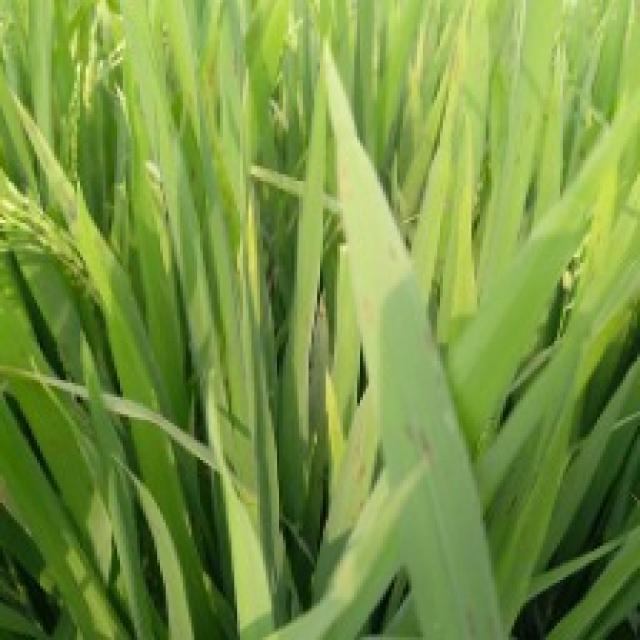Unhealthy: (419, 427, 441, 472), (465, 608, 483, 639), (402, 418, 417, 443), (364, 295, 375, 324), (421, 326, 434, 347), (356, 461, 369, 482)
